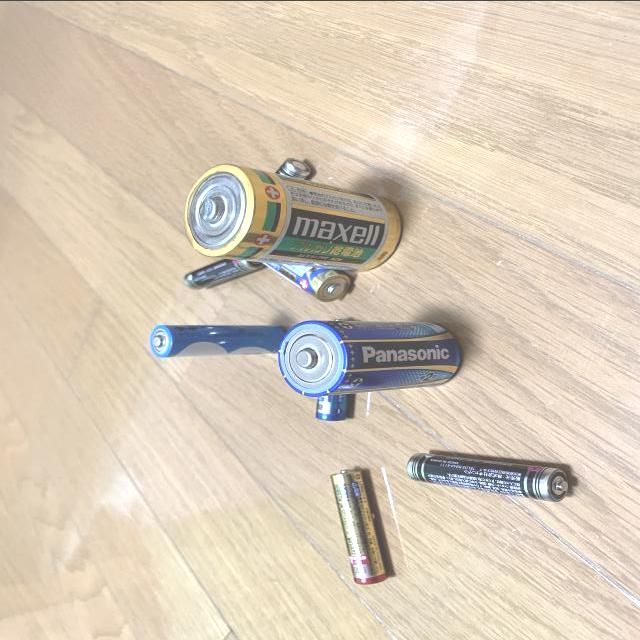AA: (328, 461, 396, 585)
AAA: (400, 448, 580, 504), (144, 320, 292, 364)
